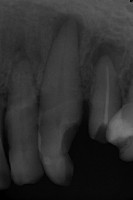Furcation Involvement: (51, 12, 86, 44), (91, 39, 124, 67), (123, 62, 133, 95)
